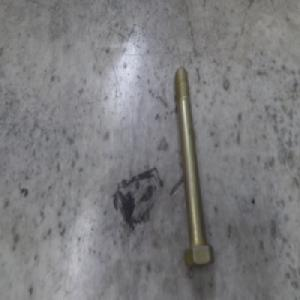Bolt: (170, 66, 210, 267)
